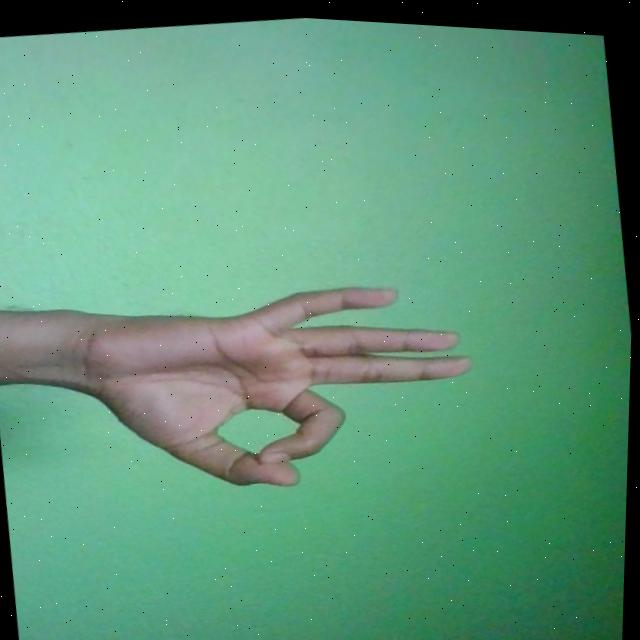Ok: (62, 253, 490, 517)
